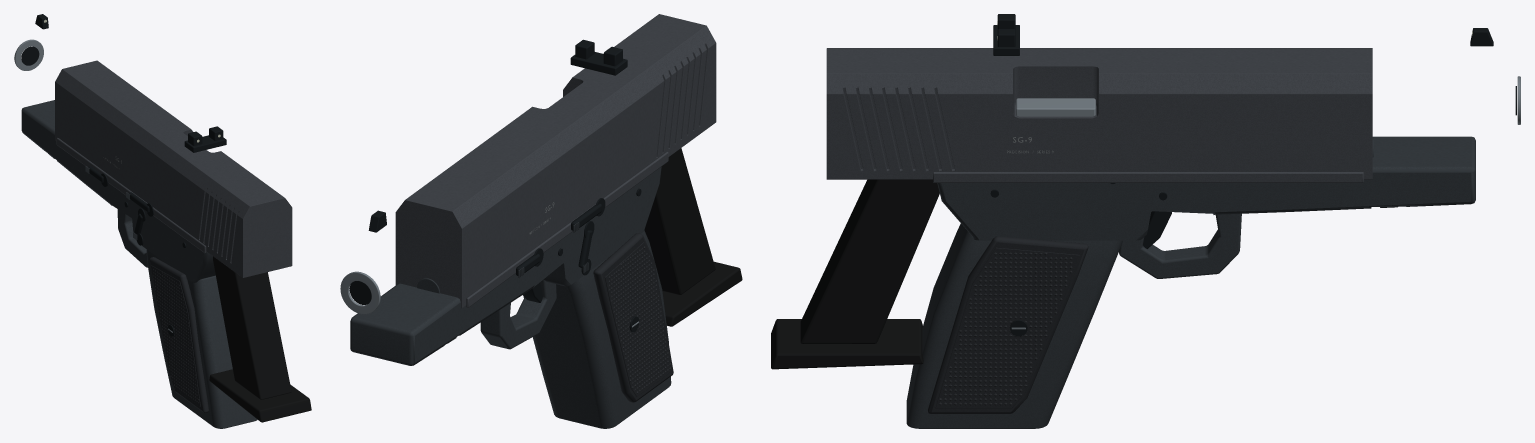
The model's file is weapon-70-BbLJJCGP.glb.
3 renders of one model, left to right at view 1: azimuth 30°, elevation 25°; view 2: azimuth 150°, elevation 25°; view 3: azimuth 270°, elevation 25°, orthographic. The views are drawn at different scales.
Visible parts, largest first — view 1: salient_weapon_bolt, salient_weapon_body, salient_weapon_magazine, salient_weapon_iron; view 2: salient_weapon_bolt, salient_weapon_body, salient_weapon_magazine, salient_weapon_iron; view 3: salient_weapon_bolt, salient_weapon_body, salient_weapon_magazine, salient_weapon_iron.
Part boxes in pixels (bbox=[...]): salient_weapon_bolt: bbox=[55, 60, 292, 277]; salient_weapon_body: bbox=[14, 39, 257, 428]; salient_weapon_magazine: bbox=[209, 256, 311, 422]; salient_weapon_iron: bbox=[35, 14, 226, 152]; salient_weapon_bolt: bbox=[395, 14, 716, 308]; salient_weapon_body: bbox=[340, 167, 673, 428]; salient_weapon_magazine: bbox=[644, 148, 742, 326]; salient_weapon_iron: bbox=[368, 39, 627, 232]; salient_weapon_bolt: bbox=[826, 48, 1373, 182]; salient_weapon_body: bbox=[906, 76, 1520, 428]; salient_weapon_magazine: bbox=[771, 179, 939, 369]; salient_weapon_iron: bbox=[993, 14, 1493, 55].
Size of the model in its own units: 0.0353 by 0.1456 by 0.2539.
Materials: 12 (5 with a texture image).
